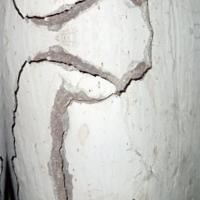crack: (6, 0, 156, 199)
